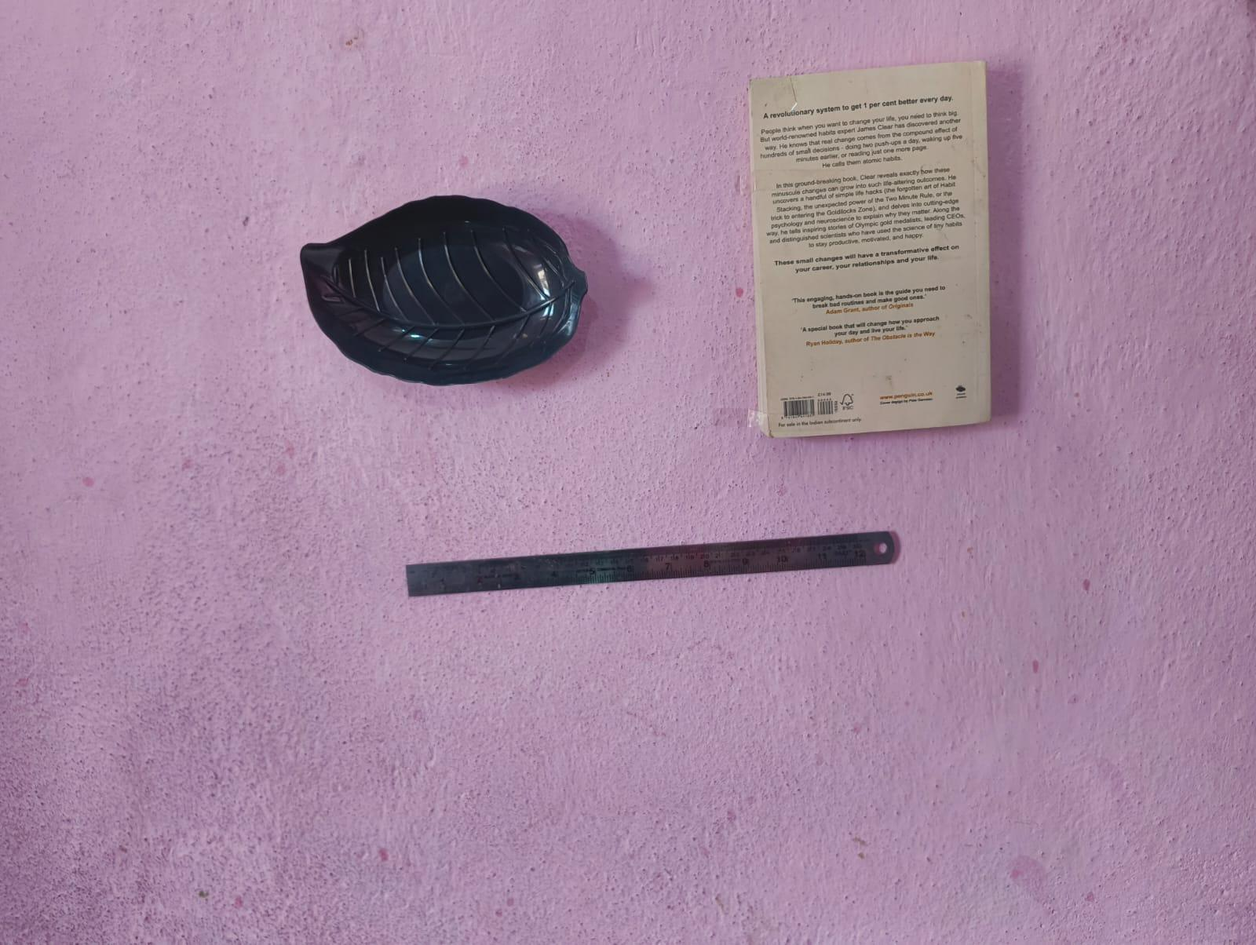Book: (730, 60, 1020, 458)
plate: (295, 192, 597, 387)
scale: (382, 520, 950, 607)
